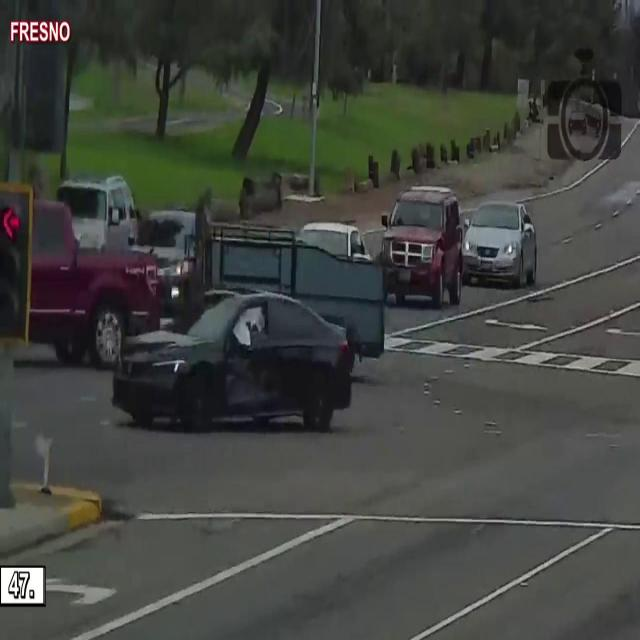accident: (107, 273, 364, 467)
